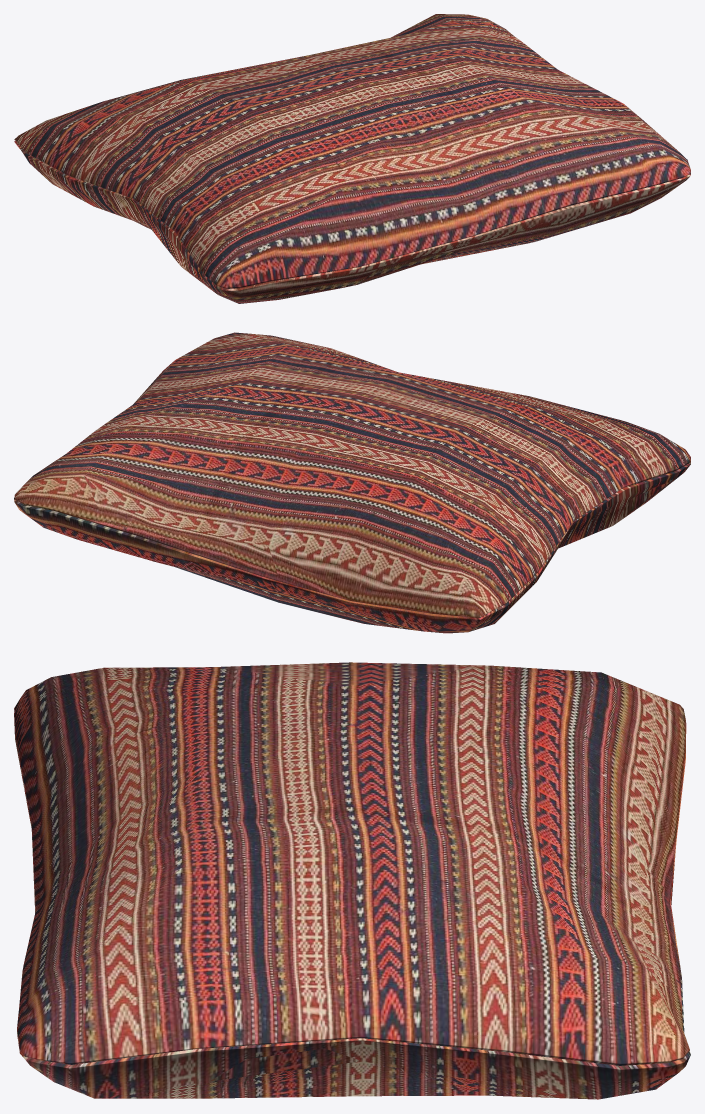
File: pillow01.fbx
3 renders of one model, top to bottom at view 1: azimuth 30°, elevation 25°; view 2: azimuth 150°, elevation 25°; view 3: azimuth 270°, elevation 25°, orthographic. The views are drawn at different scales.
Parts seen in each view (by area): view 1: Hi, Low; view 2: Hi, Low; view 3: Hi, Low.
Boxes of the visible parts, x1,y1,x2,y2 form: Hi: (14,14,690,303); Low: (181,251,461,293); Hi: (14,332,690,633); Low: (84,475,670,614); Hi: (14,662,690,1099); Low: (210,867,675,1081).
Bounding box in the file's own units: 89.95 × 28.34 × 69.21.
